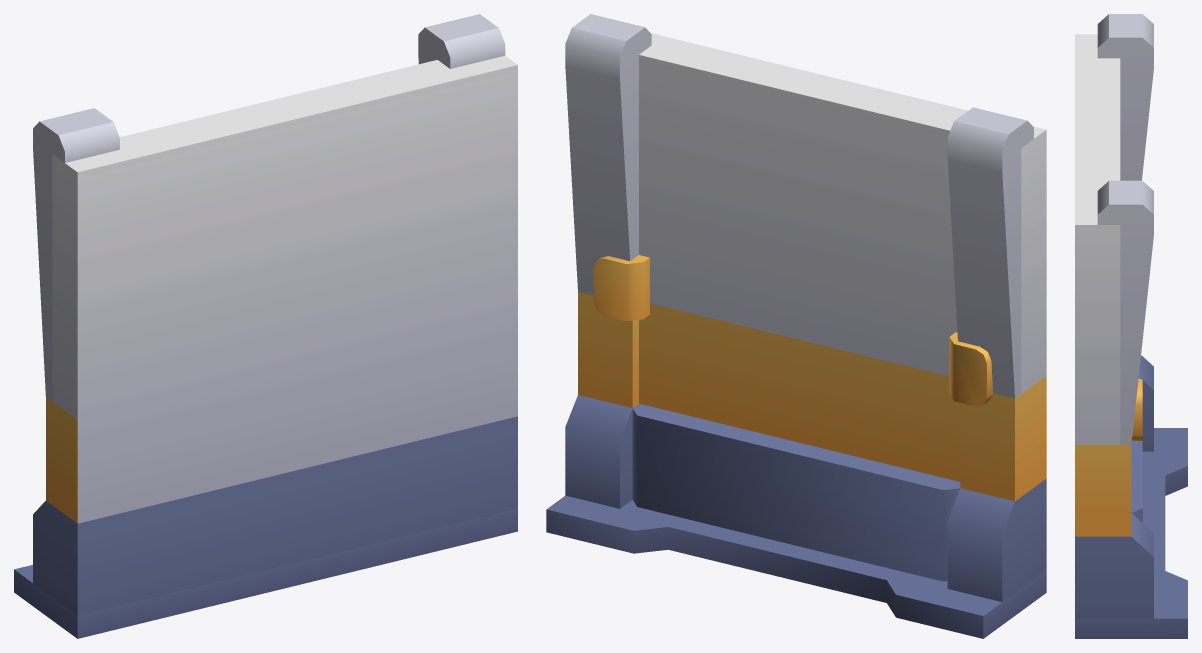
File: template-wall.glb
3 views of the same model, side by side, from view 1: azimuth 30°, elevation 25°; view 2: azimuth 150°, elevation 25°; view 3: azimuth 270°, elevation 25° (orthographic). The views are drawn at different scales.
Visible parts, largest first — view 1: template-wall; view 2: template-wall; view 3: template-wall.
Boxes of the visible parts, box(x1,y1,x2,y2) form: template-wall: box(14, 14, 517, 638); template-wall: box(546, 14, 1046, 638); template-wall: box(1075, 14, 1187, 638).
Size of the model in its own units: 4 by 4.25 by 1.
1 material, 1 textured.
